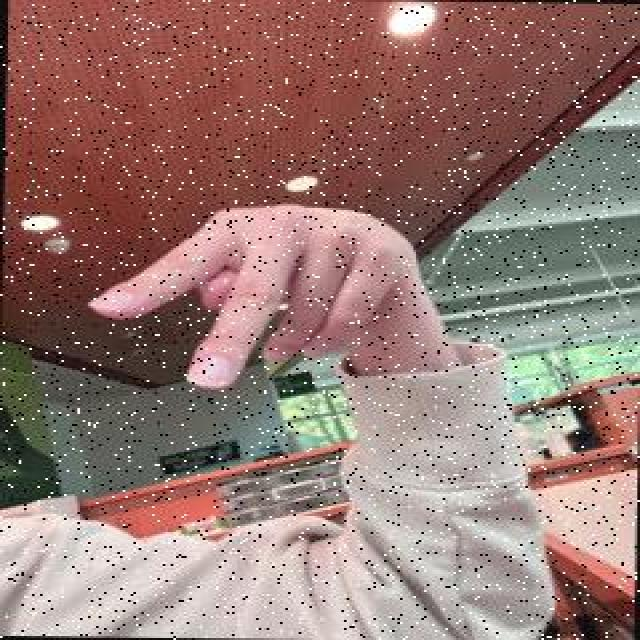P: (79, 199, 428, 397)
